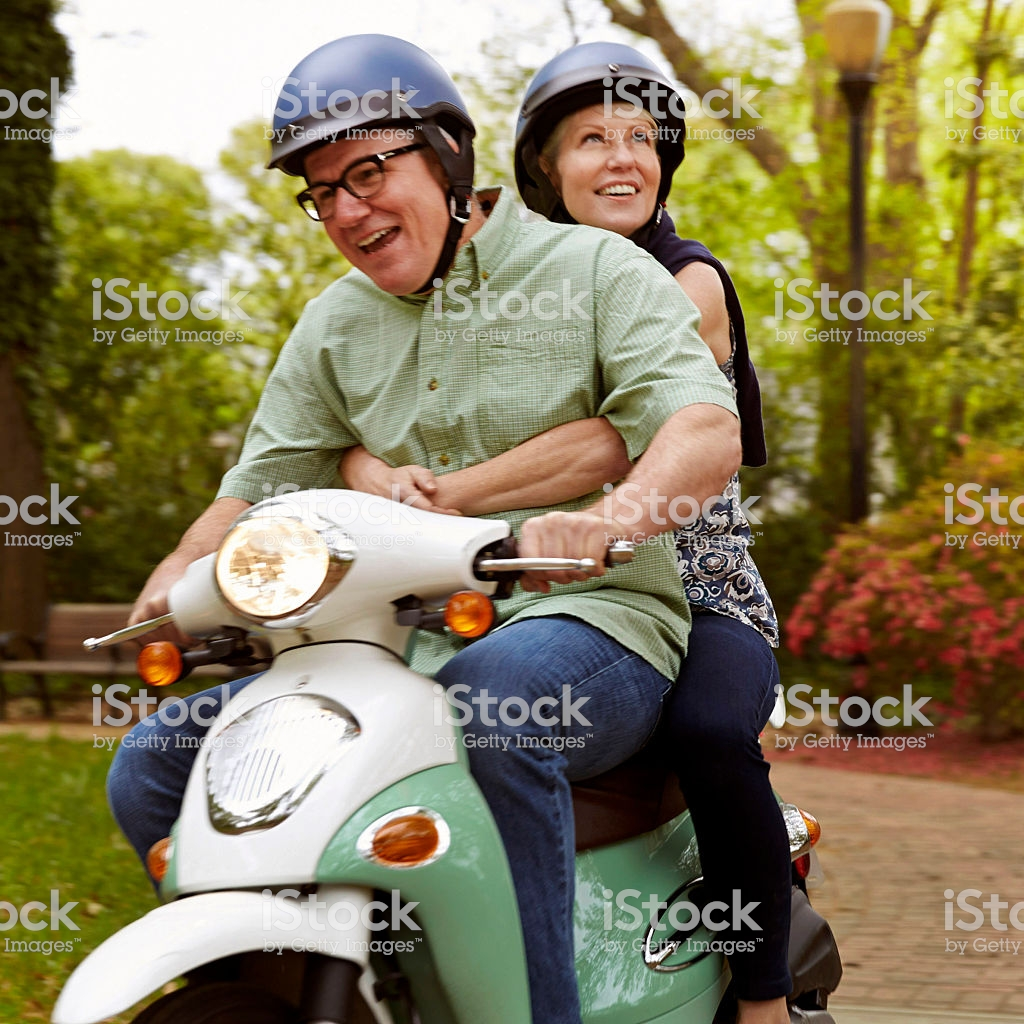helmet: (265, 23, 484, 148), (509, 26, 684, 154)
